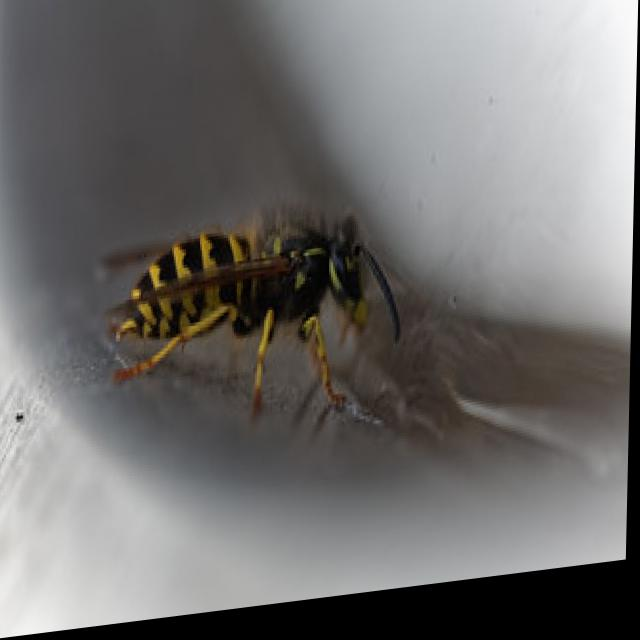Guepe: (82, 150, 439, 501)
